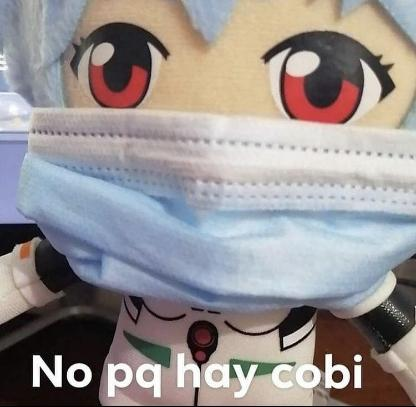rei-plush: (1, 0, 415, 359)
